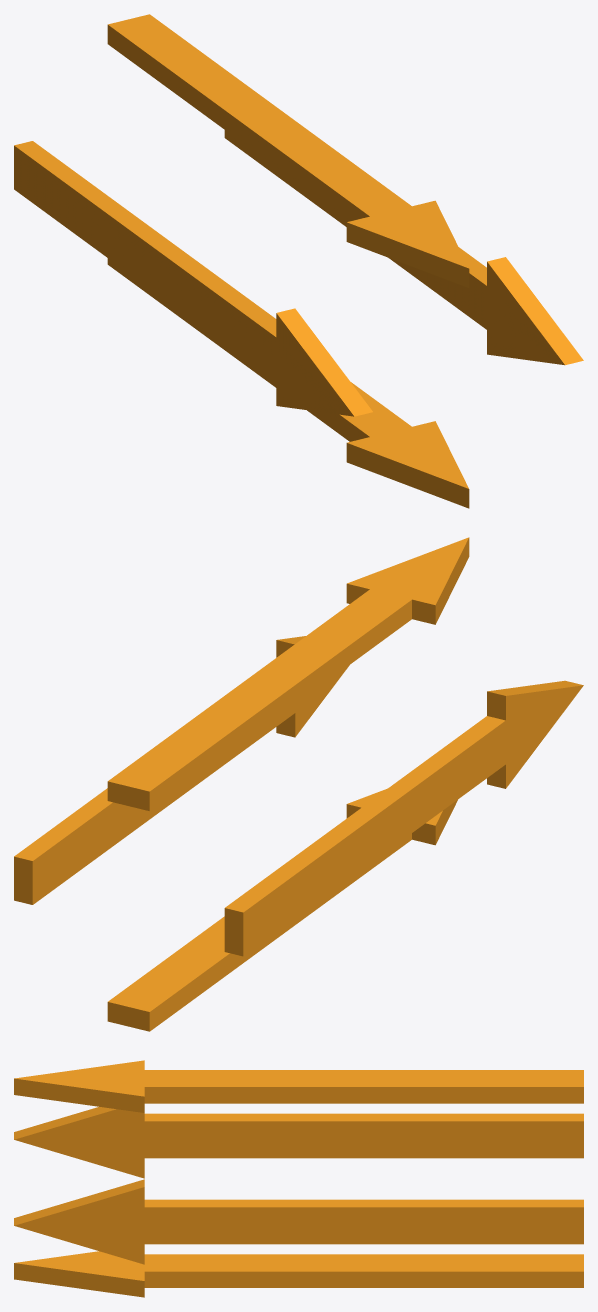
File: SM_Icon_Light_Directional_01.fbx
3 views of the same model, one above another, from view 1: azimuth 30°, elevation 25°; view 2: azimuth 150°, elevation 25°; view 3: azimuth 270°, elevation 25° (orthographic). The views are drawn at different scales.
Parts seen in each view (by area): view 1: SM_Icon_Light_Directional_01; view 2: SM_Icon_Light_Directional_01; view 3: SM_Icon_Light_Directional_01.
Boxes of the visible parts, <box> form: SM_Icon_Light_Directional_01: <box>14,14,583,508</box>; SM_Icon_Light_Directional_01: <box>14,537,583,1031</box>; SM_Icon_Light_Directional_01: <box>14,1060,583,1297</box>.
Size of the model in its own units: 28.66 by 28.66 by 73.67.
